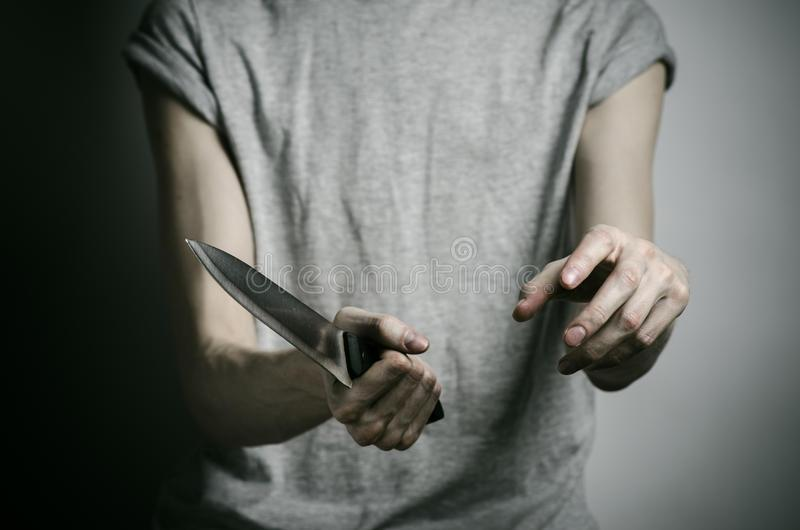weapon: (185, 236, 447, 427)
